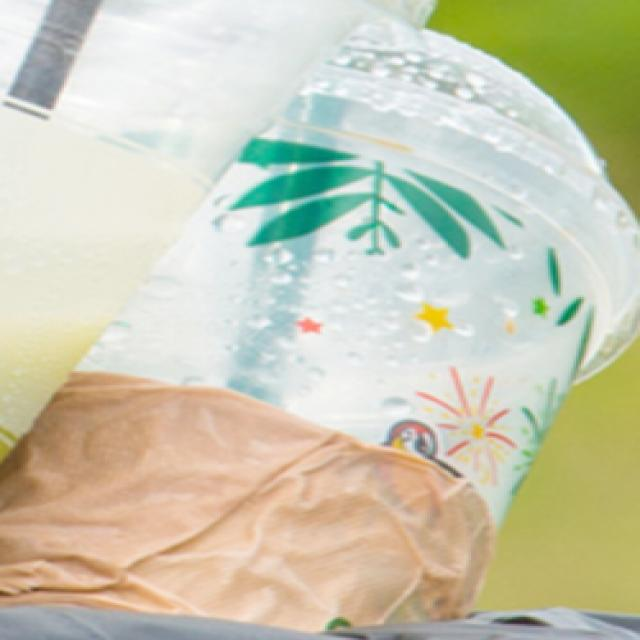plastic cup: (30, 0, 640, 615)
